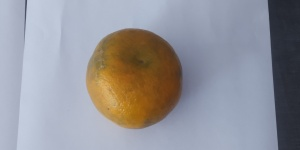BAD: (84, 26, 187, 130)
